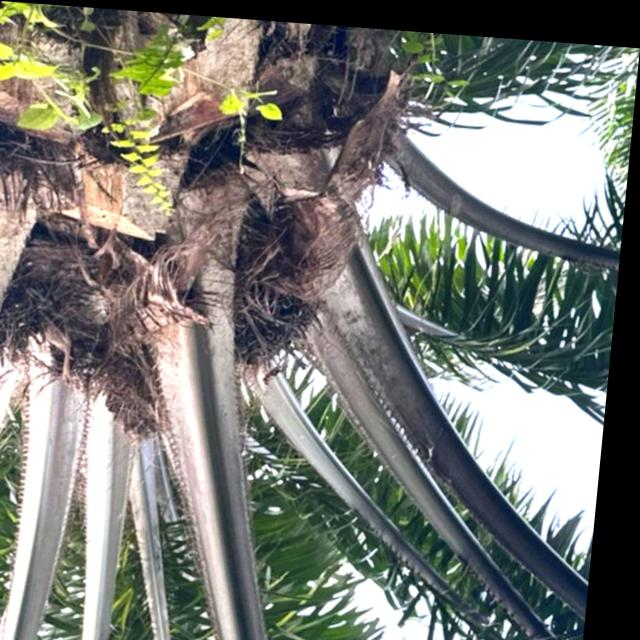unripe: (227, 258, 342, 380)
